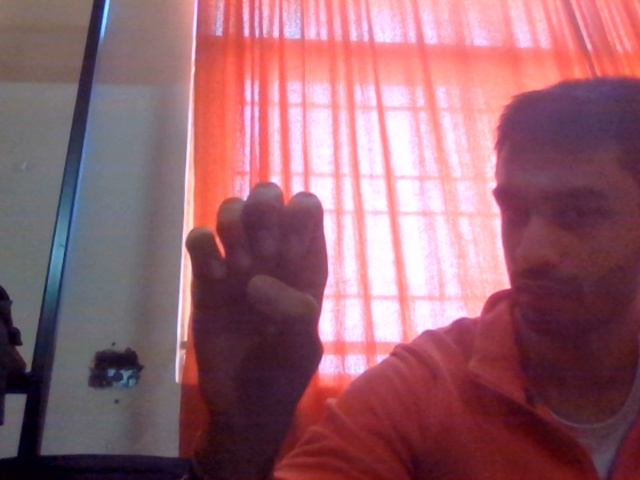E: (144, 155, 366, 440)
